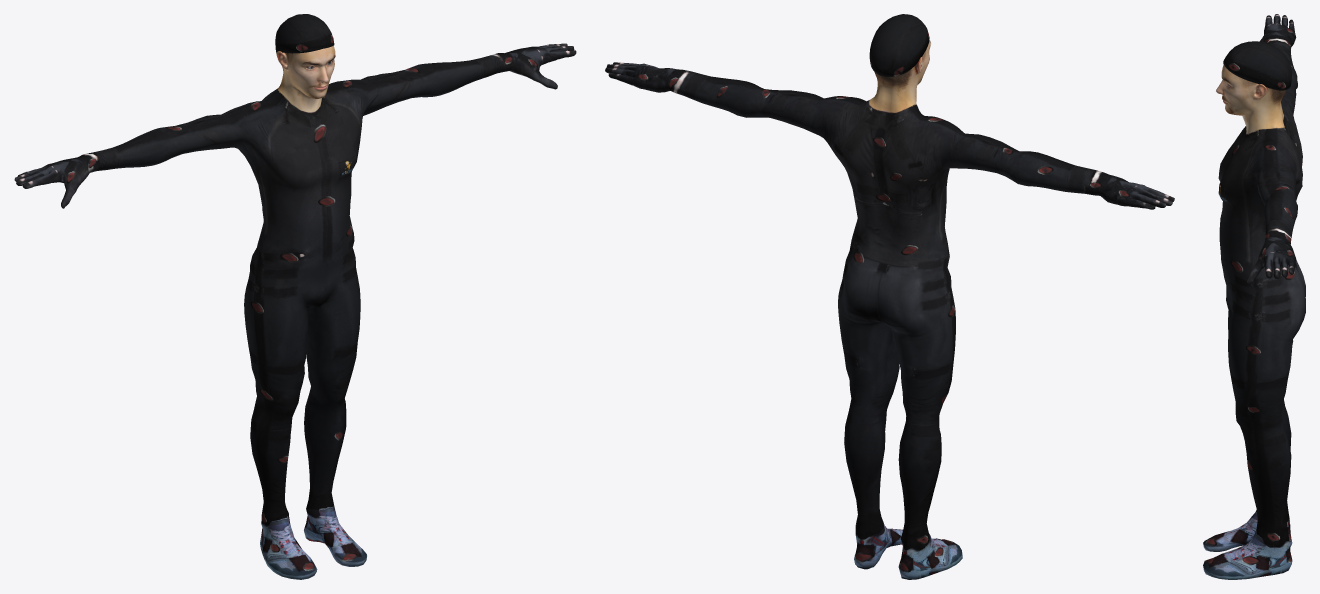
The model's file is male_t_pose0.glb.
3 renders of one model, left to right at view 1: azimuth 30°, elevation 25°; view 2: azimuth 150°, elevation 25°; view 3: azimuth 270°, elevation 25°, orthographic. The views are drawn at different scales.
Parts seen in each view (by area): view 1: MocapGuy_Body_Body_MAT_0, MocapGuy_Hat_Body_MAT_0; view 2: MocapGuy_Body_Body_MAT_0, MocapGuy_Hat_Body_MAT_0; view 3: MocapGuy_Body_Body_MAT_0, MocapGuy_Hat_Body_MAT_0.
Part boxes in pixels (x1,y1,x2,y2): MocapGuy_Body_Body_MAT_0: [14, 43, 576, 579]; MocapGuy_Hat_Body_MAT_0: [275, 14, 334, 53]; MocapGuy_Body_Body_MAT_0: [605, 39, 1174, 579]; MocapGuy_Hat_Body_MAT_0: [869, 14, 929, 76]; MocapGuy_Body_Body_MAT_0: [1203, 14, 1305, 579]; MocapGuy_Hat_Body_MAT_0: [1223, 41, 1291, 90].
Size of the model in its own units: 196 by 181 by 32.53.
7 materials, 7 textured.
